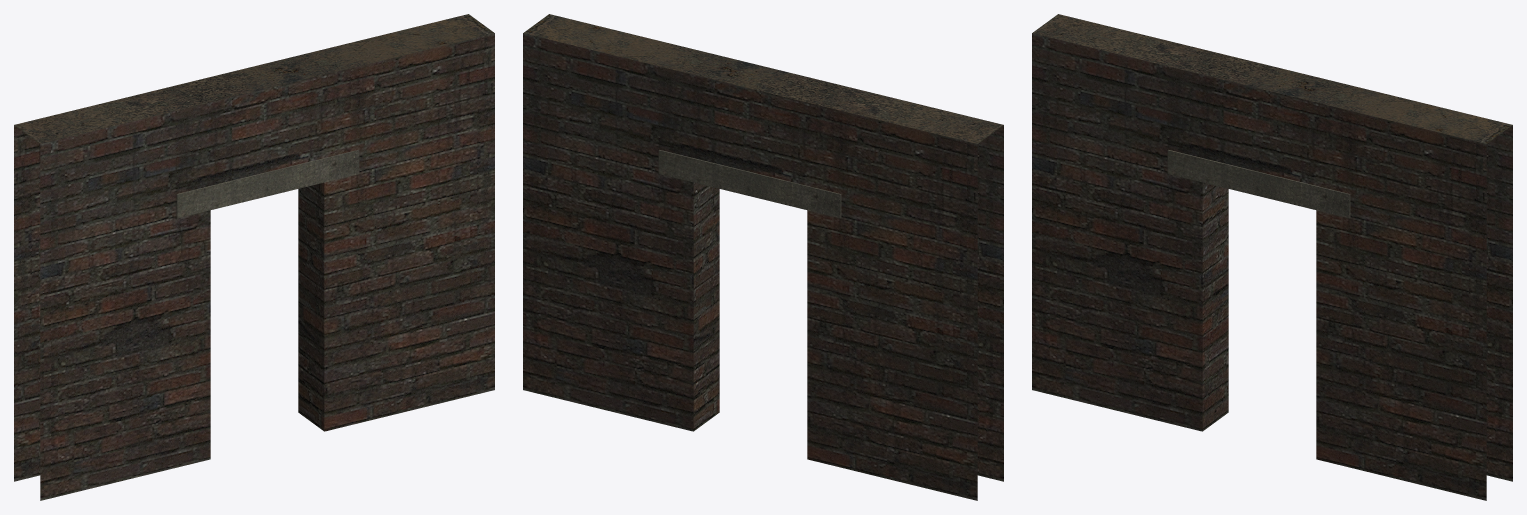
File: doorway_hs_1_regular.obj
3 views of the same model, side by side, from view 1: azimuth 30°, elevation 25°; view 2: azimuth 150°, elevation 25°; view 3: azimuth 330°, elevation 25° (orthographic).
Parts seen in each view (by area): view 1: doorway_hs_1_regular; view 2: doorway_hs_1_regular; view 3: doorway_hs_1_regular.
Boxes of the visible parts, x1,y1,x2,y2 form: doorway_hs_1_regular: (14, 14, 494, 500); doorway_hs_1_regular: (523, 14, 1003, 500); doorway_hs_1_regular: (1032, 14, 1512, 500).
Size of the model in its own units: 4 by 3 by 0.42.
